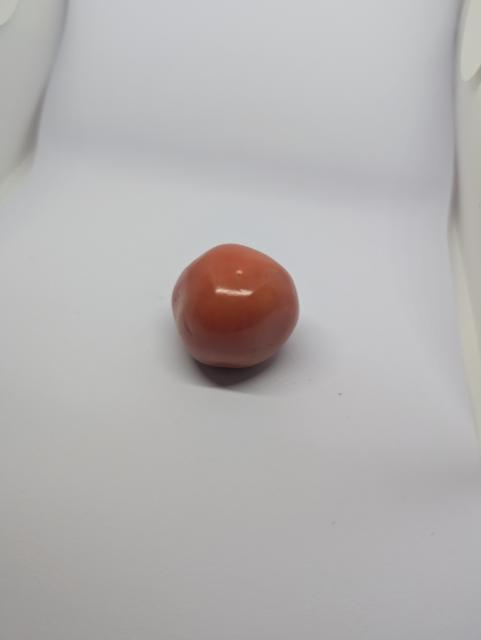red: (165, 239, 304, 384)
